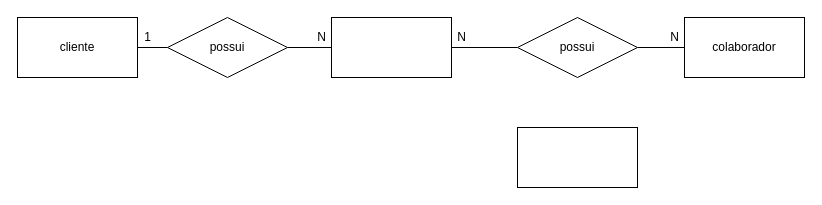
This 822x205 diagram has some shape labels left out. The shapes that lost their labels are listed below. From the top down, each one's centre as x and y in pixels, then its label:
At (391,47): "equipamento".
At (577,157): "concerto".
